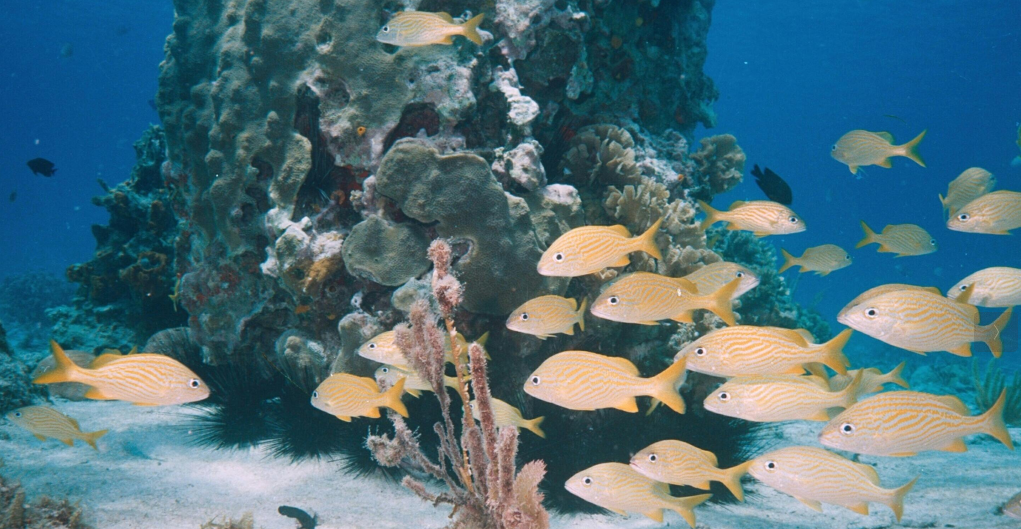fishRound: (750, 164, 795, 204)
fishSmall: (747, 444, 917, 522), (819, 389, 1013, 455), (841, 288, 1014, 359), (33, 340, 211, 409), (523, 349, 688, 415), (674, 324, 850, 378), (563, 461, 708, 526), (586, 269, 742, 325), (702, 369, 865, 422), (631, 438, 758, 502), (536, 219, 663, 279), (356, 325, 491, 367), (308, 371, 407, 421), (7, 404, 108, 452), (828, 128, 927, 176), (695, 198, 804, 240), (373, 10, 485, 49), (503, 292, 589, 339), (373, 362, 472, 399), (946, 188, 1021, 234), (461, 396, 545, 437), (947, 265, 1021, 308), (855, 220, 939, 256), (679, 261, 763, 295), (778, 243, 857, 278), (937, 166, 995, 212), (829, 362, 909, 392)
